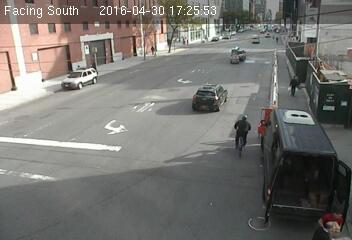neg: (225, 109, 261, 158), (180, 181, 213, 225), (22, 40, 46, 72), (36, 166, 58, 195), (78, 92, 99, 120), (141, 78, 160, 104), (99, 142, 118, 168), (158, 134, 176, 158), (237, 46, 252, 66), (179, 36, 193, 56)
pos: (322, 203, 347, 237), (285, 73, 303, 98)
